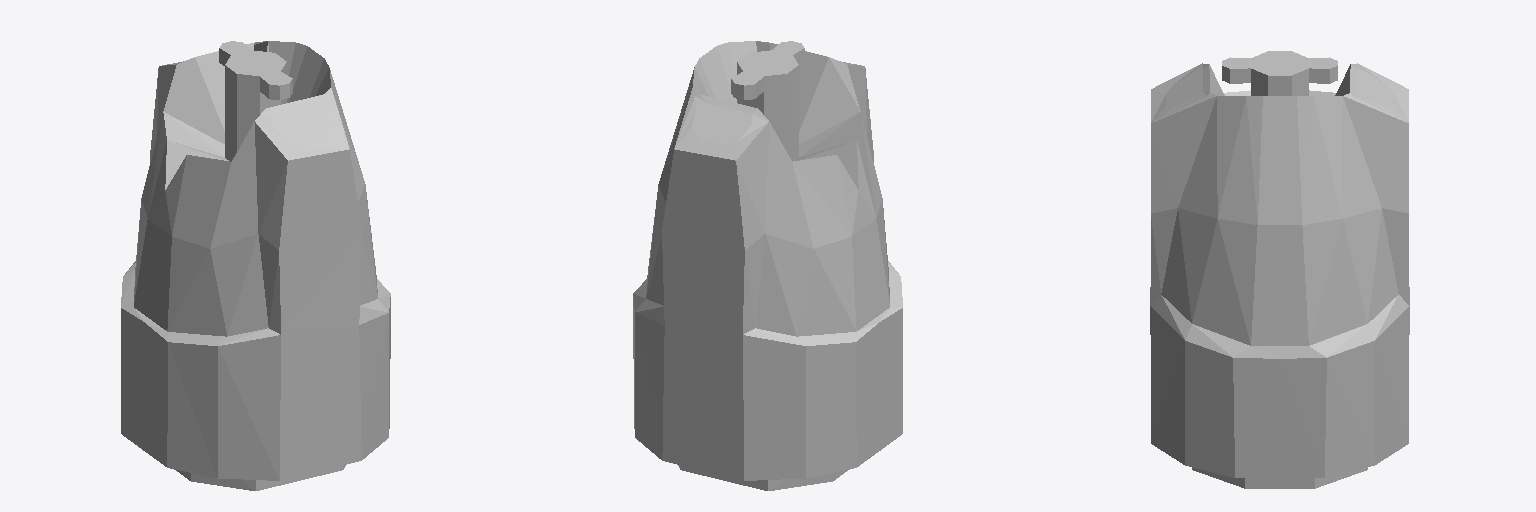
Rendered from aj5_left.obj.
3 views of the same model, side by side, from view 1: azimuth 30°, elevation 25°; view 2: azimuth 150°, elevation 25°; view 3: azimuth 270°, elevation 25° (orthographic).
Size of the model in its own units: 0.1295 by 0.2131 by 0.1299.